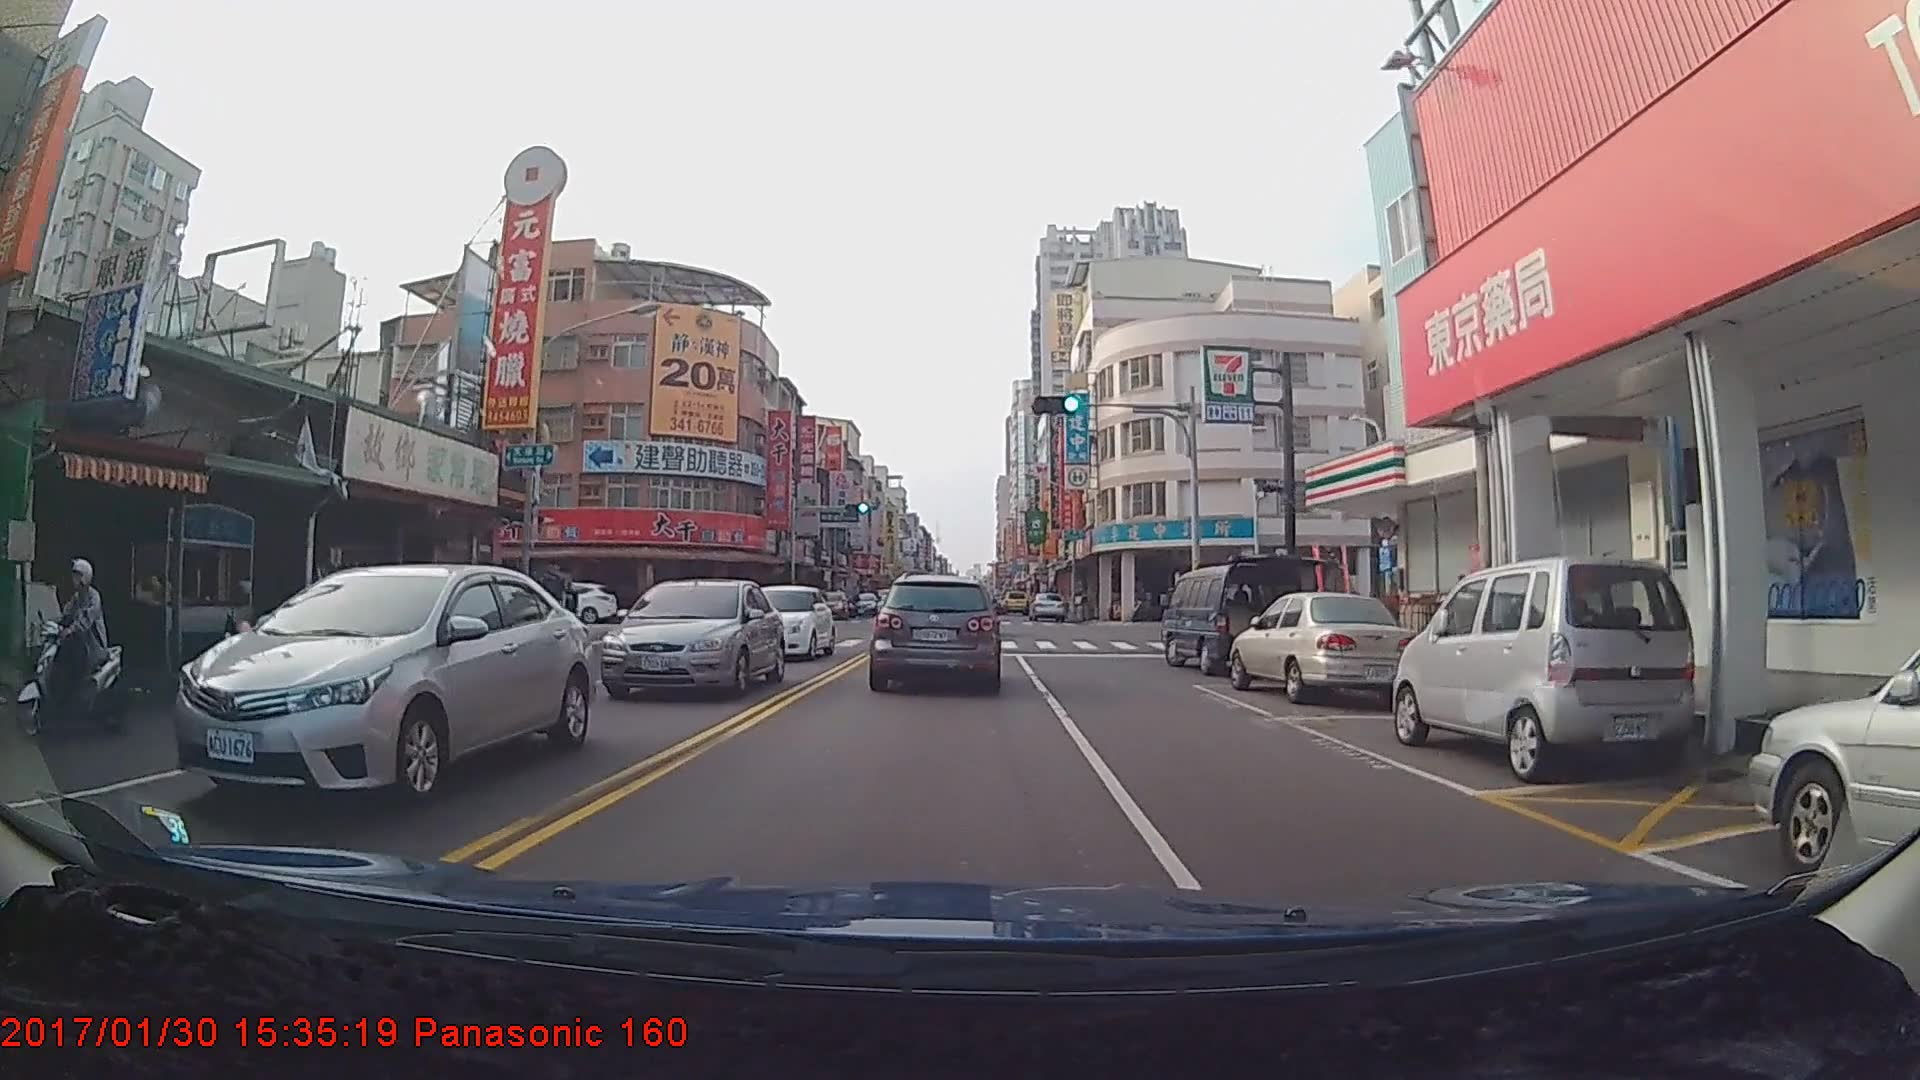rider: (12, 556, 128, 737)
vehicle: (171, 560, 597, 813), (1389, 553, 1696, 781), (1747, 590, 1919, 917), (605, 573, 784, 699), (1231, 591, 1411, 703), (1159, 564, 1304, 677), (871, 570, 1001, 692), (737, 583, 832, 660), (811, 587, 846, 620), (1028, 591, 1066, 620), (847, 593, 880, 616), (1001, 590, 1029, 612)
